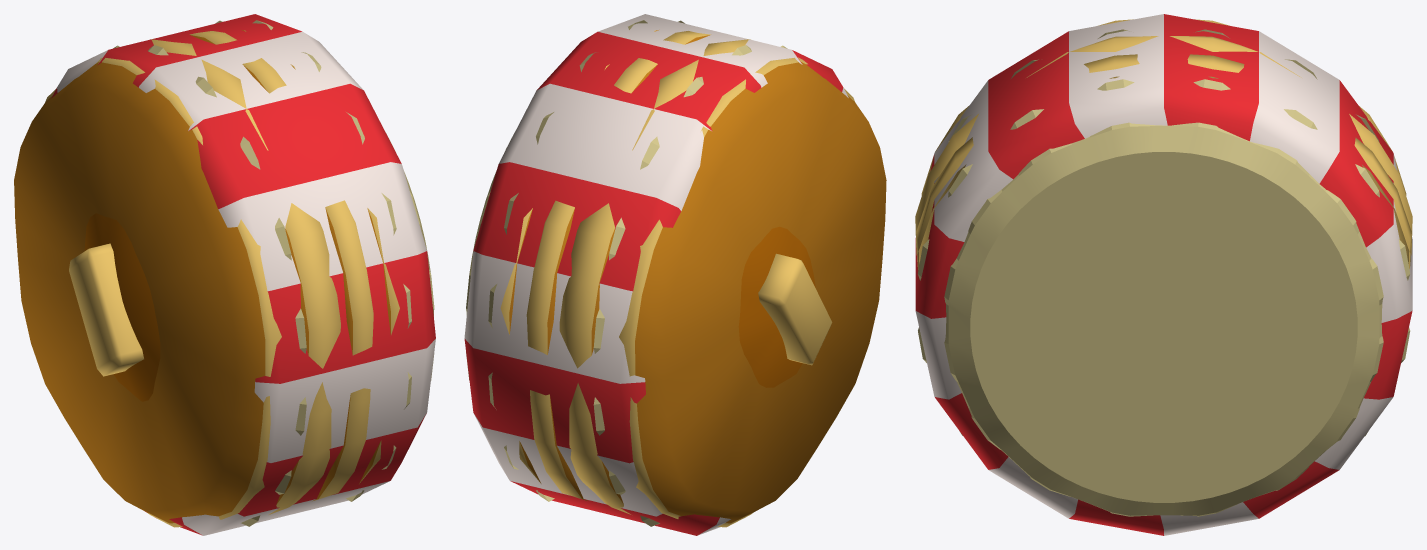
File: obj_wheelsPackFood001.fbx
The picture shows the model from 3 angles, left to right: view 1: azimuth 30°, elevation 25°; view 2: azimuth 150°, elevation 25°; view 3: azimuth 270°, elevation 25°; orthographic projection.
Parts seen in each view (by area): view 1: obj_wheels_PanCake, obj_wheels_Caramelo, obj_wheels_Chapón; view 2: obj_wheels_PanCake, obj_wheels_Caramelo, obj_wheels_Chapón; view 3: obj_wheels_Chapón, obj_wheels_Caramelo, obj_wheels_PanCake.
Boxes of the visible parts, x1,y1,x2,y2 form: obj_wheels_PanCake: [14, 30, 399, 527]; obj_wheels_Caramelo: [51, 14, 435, 535]; obj_wheels_Chapón: [113, 20, 434, 526]; obj_wheels_PanCake: [500, 30, 886, 527]; obj_wheels_Caramelo: [464, 14, 848, 535]; obj_wheels_Chapón: [466, 20, 787, 526]; obj_wheels_Chapón: [918, 29, 1410, 516]; obj_wheels_Caramelo: [915, 14, 1412, 535]; obj_wheels_PanCake: [915, 19, 1412, 269].
Bounding box in the file's own units: 0.3742 × 0.6587 × 0.658.
